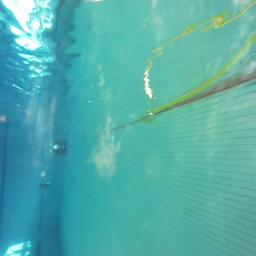Full: (52, 146, 68, 154), (38, 182, 50, 188)
